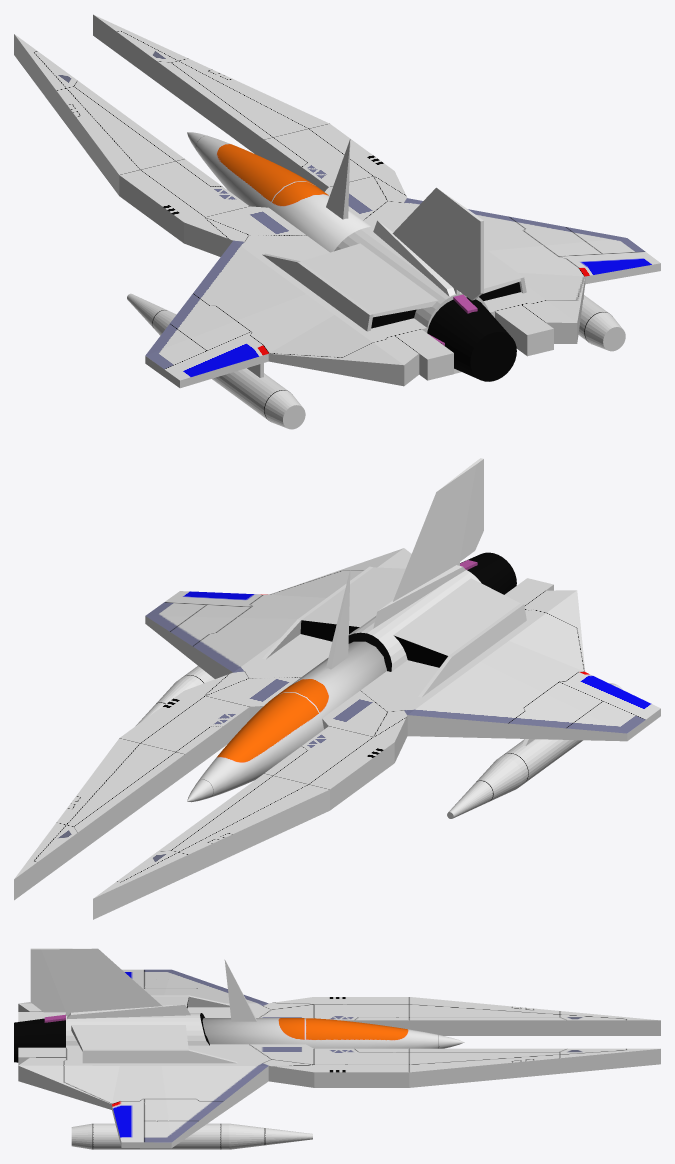
Rendered from VicViper.fbx.
3 renders of one model, top to bottom at view 1: azimuth 30°, elevation 25°; view 2: azimuth 150°, elevation 25°; view 3: azimuth 270°, elevation 25°, orthographic. The views are drawn at different scales.
Visible parts, largest first — view 1: Wing, Cube, Pit, TopWing, Weapon, Engine, PitBack, PitWing; view 2: Wing, Cube, Pit, TopWing, Weapon, PitBack, Engine, PitWing; view 3: Wing, TopWing, Pit, Cube, Weapon, PitBack, Engine, PitWing.
Boxes of the visible parts, bbox=[...] form: Wing: bbox=[14, 14, 660, 388]; Cube: bbox=[262, 243, 526, 331]; Pit: bbox=[187, 132, 370, 252]; TopWing: bbox=[373, 187, 483, 300]; Weapon: bbox=[127, 293, 625, 429]; Engine: bbox=[427, 294, 516, 381]; PitBack: bbox=[334, 226, 488, 328]; PitWing: bbox=[326, 139, 350, 219]; Wing: bbox=[14, 548, 660, 919]; Cube: bbox=[262, 566, 526, 697]; Pit: bbox=[187, 641, 386, 802]; TopWing: bbox=[373, 458, 483, 628]; Weapon: bbox=[136, 666, 622, 818]; PitBack: bbox=[348, 569, 481, 671]; Engine: bbox=[460, 552, 516, 594]; PitWing: bbox=[326, 570, 350, 669]; Wing: bbox=[18, 969, 660, 1148]; TopWing: bbox=[30, 948, 190, 1019]; Pit: bbox=[202, 1018, 464, 1048]; Cube: bbox=[71, 995, 237, 1063]; Weapon: bbox=[71, 1123, 312, 1149]; PitBack: bbox=[66, 1013, 209, 1045]; Engine: bbox=[14, 1014, 65, 1062]; PitWing: bbox=[224, 959, 256, 1021].
Size of the model in its own units: 11.81 by 4.53 by 18.66.
Materials: 9 (6 with a texture image).
